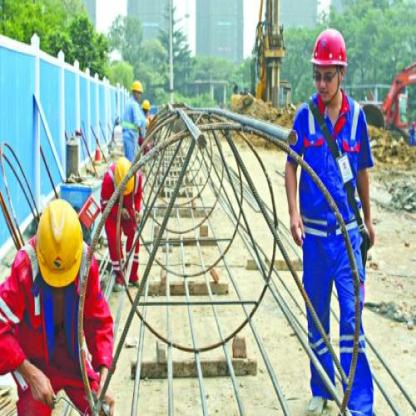helmet: (34, 194, 88, 292), (309, 22, 352, 106), (110, 156, 137, 198), (129, 77, 143, 100), (140, 94, 151, 116)
